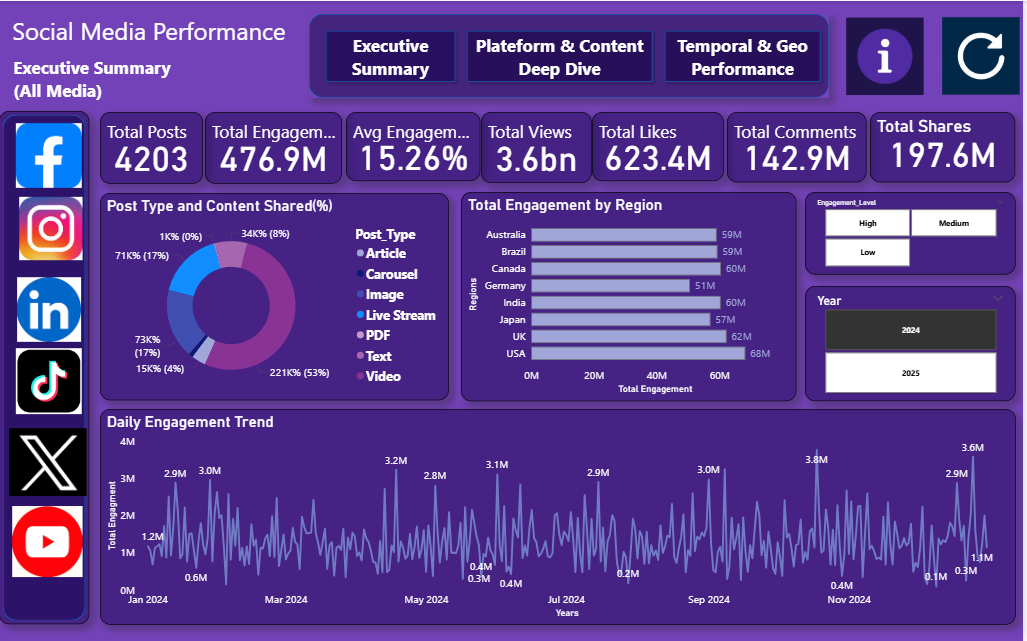

The page's visual inventory and layout, read from the dashboard file:
{"tool":"powerbi","page":{"name":"Executive Summary","canvas":[1600,1000],"ordinal":0},"visuals":[{"type":"card","fields":{"Values":["CountNonNull(Posts.Post_ID)"]},"box":[157.1,173.5,161.2,112.2],"z":0},{"type":"card","fields":{"Values":["Sum(Posts.Engagement)"]},"box":[322.4,173.5,214.3,112.2],"z":1000},{"type":"card","fields":{"Values":["Posts.Avg Engagement %"]},"box":[542.9,173.5,210.2,108.2],"z":2000},{"type":"card","fields":{"Values":["Sum(Posts.Views)"]},"box":[753.3,173.3,173.3,111.1],"z":3000},{"type":"card","fields":{"Values":["Sum(Posts.Likes)"]},"box":[926.5,173.5,206.1,108.2],"z":4000},{"type":"card","fields":{"Values":["Sum(Posts.Comments)"]},"box":[1136.7,173.5,218.4,110.2],"z":5000},{"type":"textbox","box":[16.3,16.3,449,63.3],"z":6000},{"type":"textbox","box":[16.7,80,282.8,89.3],"z":7000},{"type":"shape","box":[0,171.4,140.8,802],"z":8000},{"type":"shape","box":[483.7,20.4,812.2,130.6],"z":9000},{"type":"shape","box":[502,36.7,220.4,98],"z":10000},{"type":"shape","box":[722.4,36.7,308.2,98],"z":11000},{"type":"shape","box":[1030.6,36.7,261.2,98],"z":12000},{"type":"donutChart","title":"Post Type and Content Shared(%)","fields":{"Y":["CountNonNull(Posts.Post_ID)"],"Category":["Posts.Post_Type"]},"box":[157.1,300,544.9,324.5],"z":13000},{"type":"barChart","title":"Total Engagement by Region","fields":{"Category":["Posts.Region"],"Y":["Sum(Posts.Engagement)"]},"box":[722.4,298,524.5,326.5],"z":14000},{"type":"slicer","fields":{"Values":["Posts.Engagement_Level"]},"box":[1259.2,298,328.6,128.6],"z":15000},{"type":"lineChart","title":"Daily Engagement Trend","fields":{"Y":["Sum(Posts.Engagement)"],"Category":["Posts.Post_Date.Variation.Date Hierarchy.Year","Posts.Post_Date.Variation.Date Hierarchy.Quarter","Posts.Post_Date.Variation.Date Hierarchy.Month","Posts.Post_Date.Variation.Date Hierarchy.Day"]},"box":[157.1,636.7,1430.6,336.7],"z":16000},{"type":"image","box":[20,186.7,115.6,111.1],"z":17000},{"type":"image","box":[26.7,300,108.9,111.1],"z":18000},{"type":"image","box":[20,426.7,115.6,111.1],"z":19000},{"type":"image","box":[20,537.8,115.6,113.3],"z":20000},{"type":"image","box":[11.1,662.2,131.1,115.6],"z":21000},{"type":"image","box":[15.6,777.8,120,133.3],"z":22000},{"type":"image","box":[1318.4,10.2,130.6,151],"z":23000},{"type":"slicer","fields":{"Values":["Posts.Platform"]},"box":[1522.2,80,13.3,24.4],"z":24000},{"type":"image","box":[1468.9,20,131.1,131.1],"z":25000},{"type":"card","title":"Total Shares","fields":{"Values":["Sum(Posts.Shares)"]},"box":[1361.2,173.5,226.5,110.2],"z":26000},{"type":"slicer","fields":{"Values":["Posts.Year"]},"box":[1259.2,444.9,328.6,179.6],"z":27000}]}

Visuals, with their boxes in screenshot pixels (x1, y1, x2, y2), scaled from the page's 1600x1000 canvas onto the 1027x641 screenshot:
card - CountNonNull(Posts.Post_ID): (101, 111, 204, 183)
card - Sum(Posts.Engagement): (207, 111, 344, 183)
card - Posts.Avg Engagement %: (348, 111, 483, 181)
card - Sum(Posts.Views): (484, 111, 595, 182)
card - Sum(Posts.Likes): (595, 111, 727, 181)
card - Sum(Posts.Comments): (730, 111, 870, 182)
textbox: (10, 10, 299, 51)
textbox: (11, 51, 192, 109)
shape: (0, 110, 90, 624)
shape: (310, 13, 832, 97)
shape: (322, 24, 464, 86)
shape: (464, 24, 662, 86)
shape: (662, 24, 829, 86)
"Post Type and Content Shared(%)" donutChart: (101, 192, 451, 400)
"Total Engagement by Region" barChart: (464, 191, 800, 400)
slicer - Posts.Engagement_Level: (808, 191, 1019, 273)
"Daily Engagement Trend" lineChart: (101, 408, 1019, 624)
image: (13, 120, 87, 191)
image: (17, 192, 87, 264)
image: (13, 274, 87, 345)
image: (13, 345, 87, 417)
image: (7, 424, 91, 499)
image: (10, 499, 87, 584)
image: (846, 7, 930, 103)
slicer - Posts.Platform: (977, 51, 986, 67)
image: (943, 13, 1026, 97)
"Total Shares" card: (874, 111, 1019, 182)
slicer - Posts.Year: (808, 285, 1019, 400)
